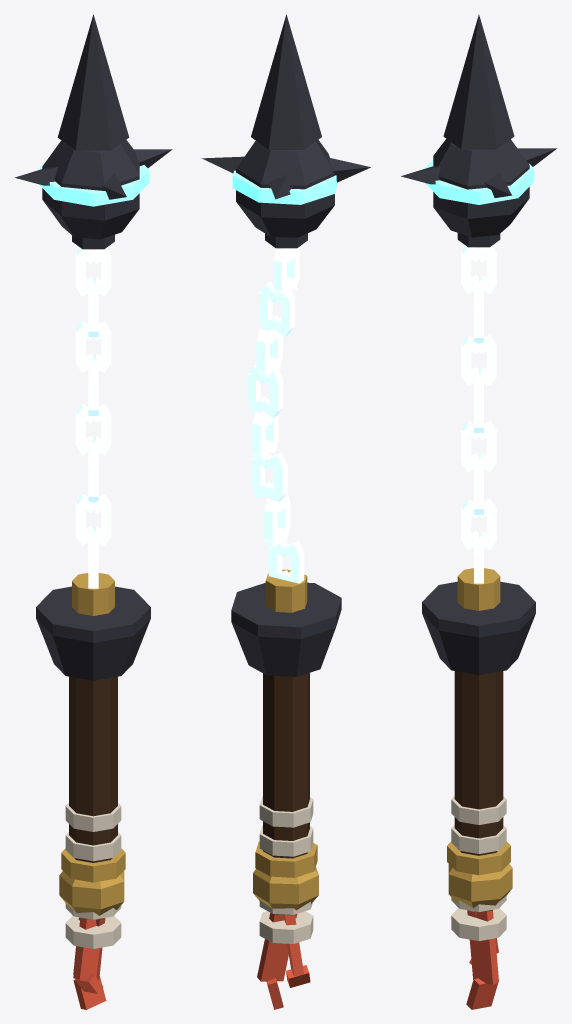
The model's file is weapon_chain.glb.
The picture shows the model from 3 angles, left to right: view 1: azimuth 90°, elevation 25°; view 2: azimuth 150°, elevation 25°; view 3: azimuth 270°, elevation 25°; orthographic projection.
Visible parts, largest first — view 1: weapon_chain; view 2: weapon_chain; view 3: weapon_chain.
Part boxes in pixels (x1,y1,x2,y2): weapon_chain: (15, 14, 172, 1009); weapon_chain: (202, 14, 370, 1009); weapon_chain: (401, 15, 556, 1009).
Size of the model in its own units: 0.2211 by 1.53 by 0.2211.
